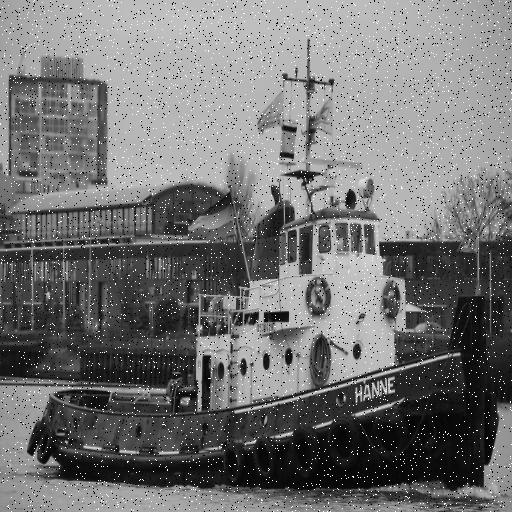tugboat: (26, 36, 504, 501)
